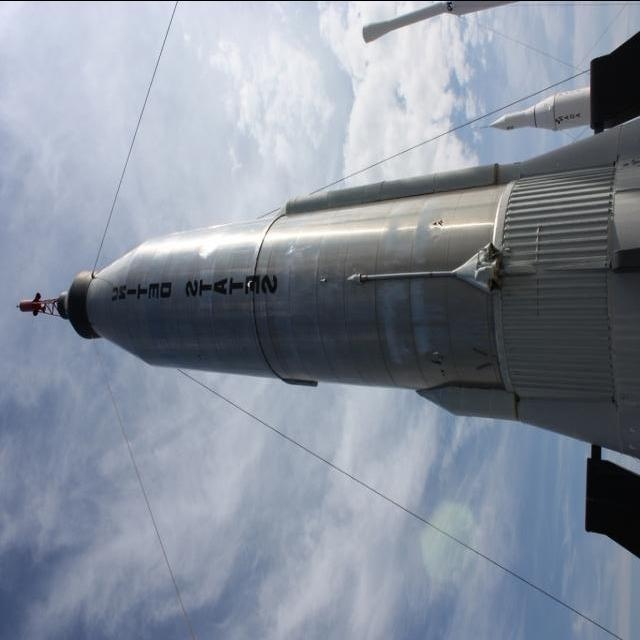missile: (17, 128, 640, 472), (483, 84, 594, 139)
